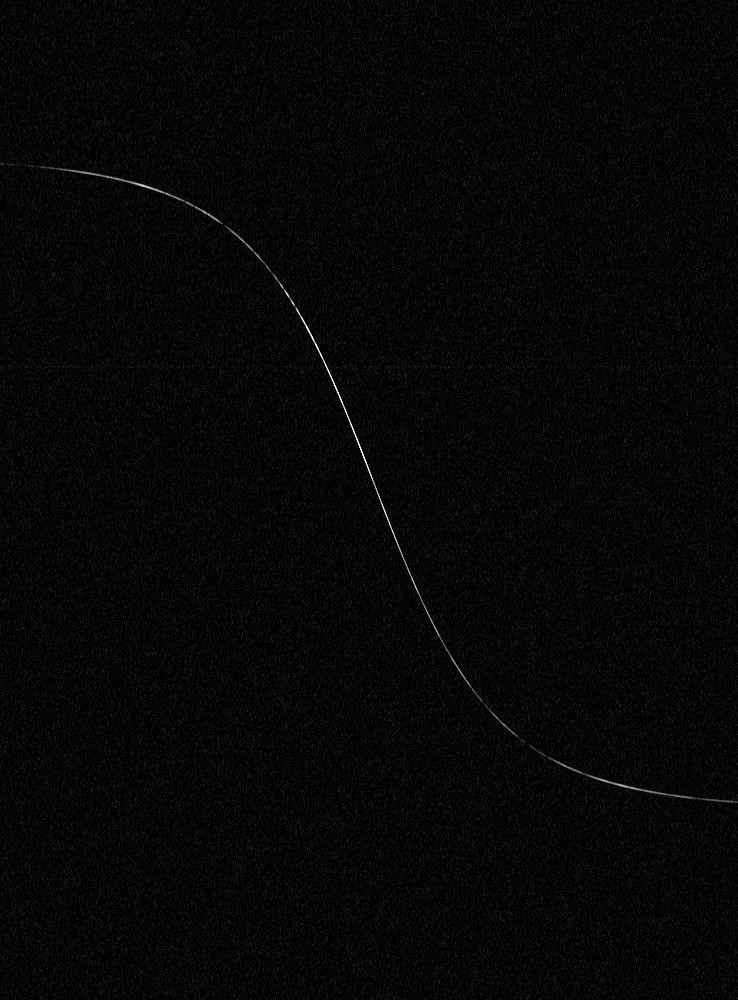signal: (0, 0, 737, 999)
